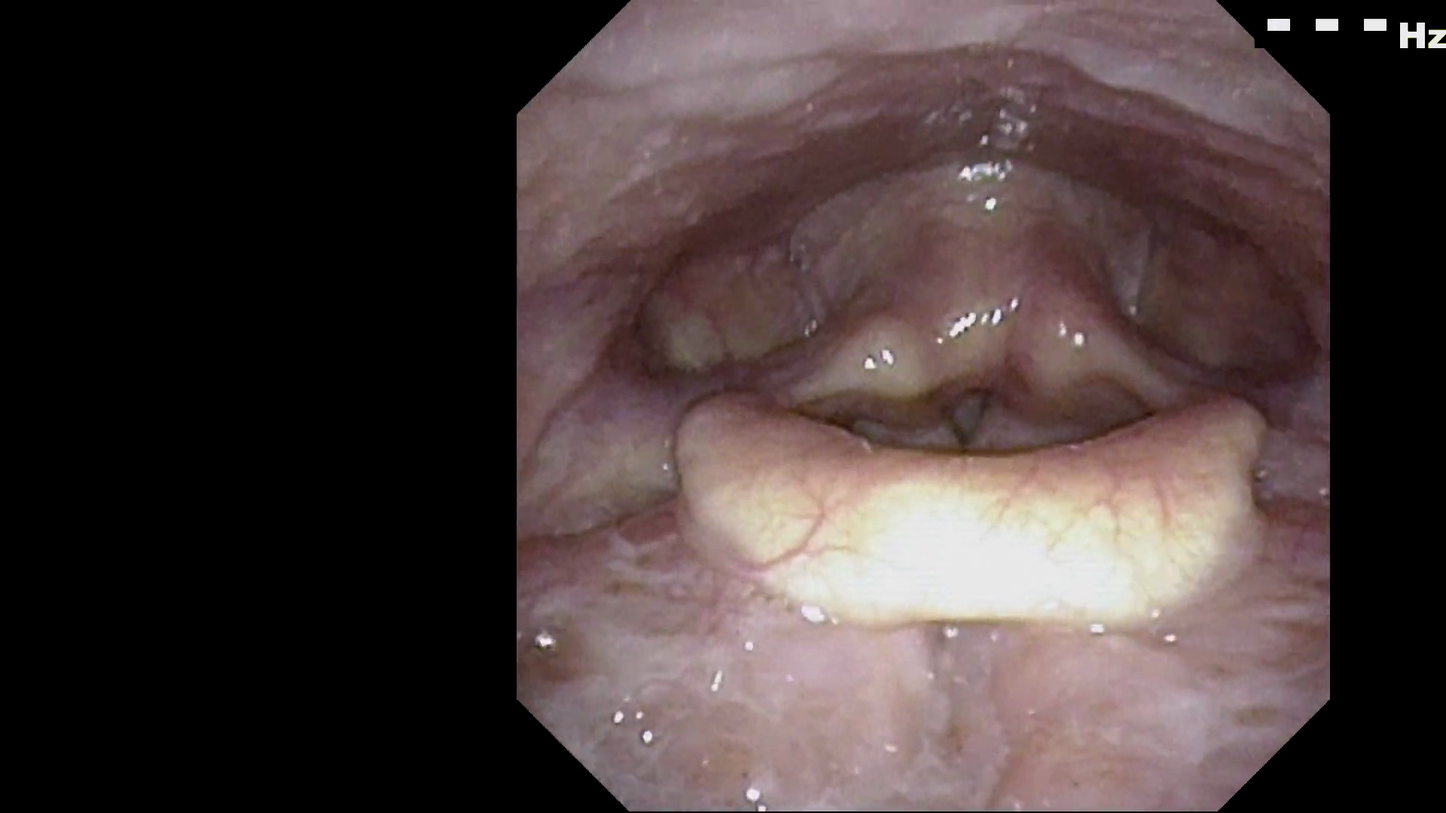epiglottis: (657, 362, 1274, 644)
trachea: (910, 351, 1014, 478)
